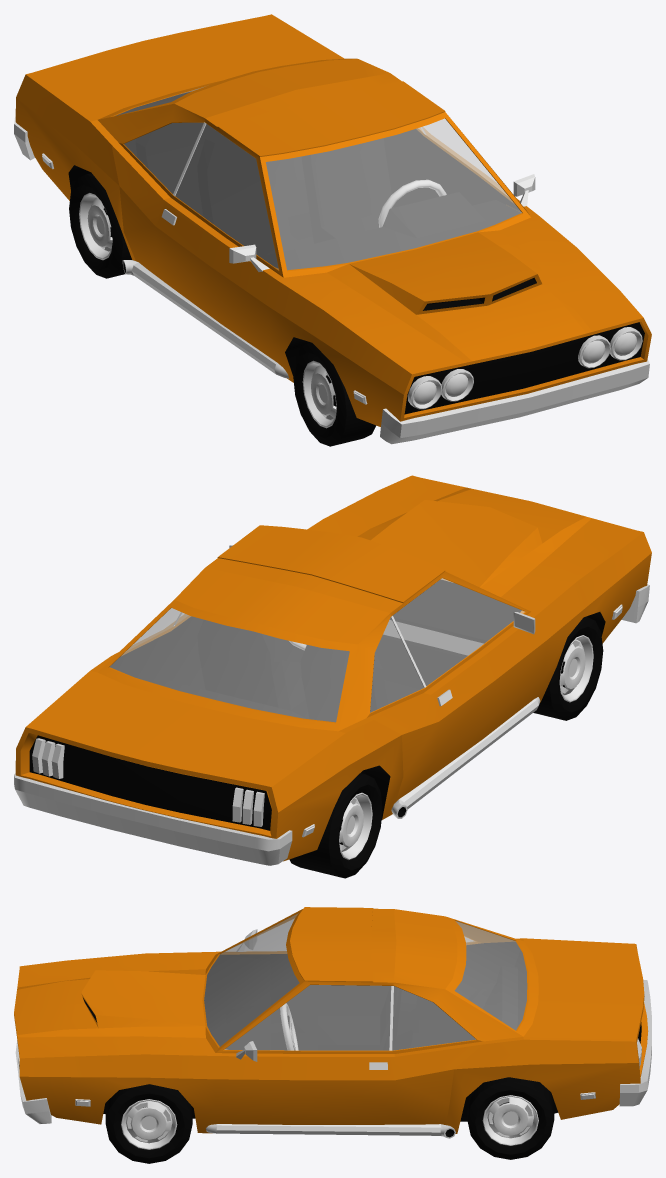
File: Car.fbx
The picture shows the model from 3 angles, top to bottom: view 1: azimuth 30°, elevation 25°; view 2: azimuth 150°, elevation 25°; view 3: azimuth 270°, elevation 25°; orthographic projection. The views are drawn at different scales.
Visible parts, largest first — view 1: Body, Wheel.001, Wheel.004, SteeringWheel; view 2: Body, Wheel.004, Wheel.001; view 3: Body, Wheel.002, Wheel.003, SteeringWheel.
Boxes of the visible parts, <box> form: Body: <box>14,14,651,444</box>; Wheel.001: <box>293,342,376,446</box>; Wheel.004: <box>69,173,131,278</box>; SteeringWheel: <box>378,179,446,227</box>; Body: <box>14,475,651,865</box>; Wheel.004: <box>289,773,382,878</box>; Wheel.001: <box>533,616,603,720</box>; Body: <box>14,907,651,1138</box>; Wheel.002: <box>467,1077,554,1159</box>; Wheel.003: <box>105,1084,192,1163</box>; SteeringWheel: <box>280,1003,298,1050</box>.
Bounding box in the file's own units: 546 × 362 × 1216.
